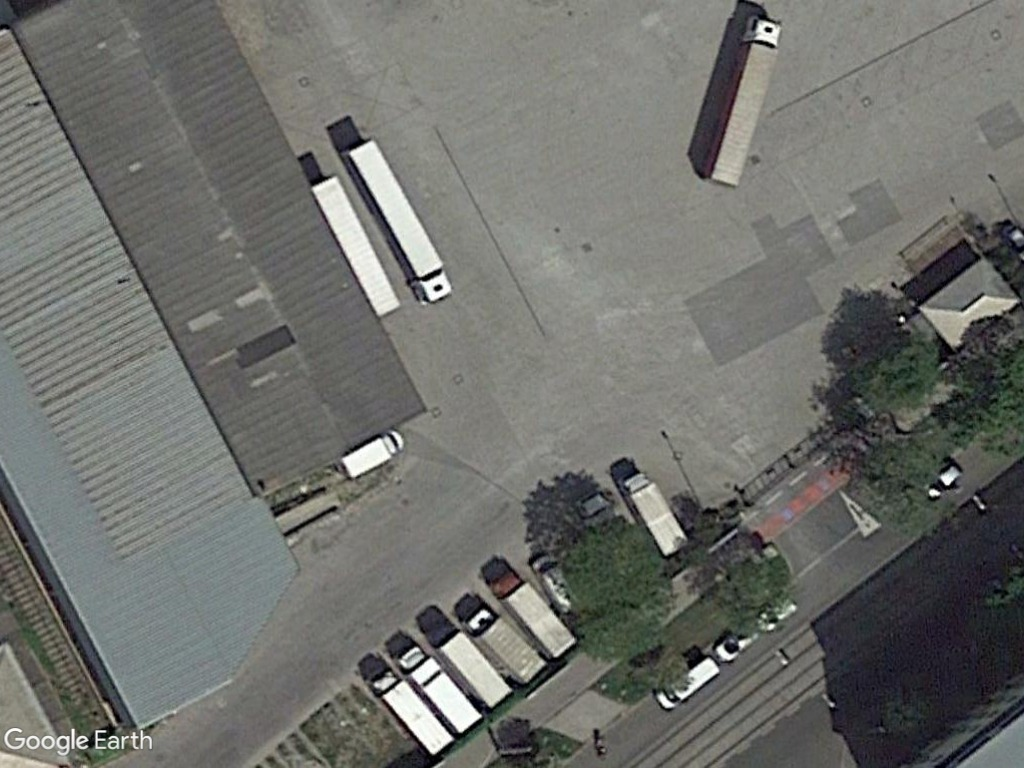longvehicle: (339, 136, 452, 308), (696, 4, 790, 194)
truck: (361, 662, 458, 762), (393, 639, 484, 741), (423, 615, 514, 714), (490, 569, 581, 663), (462, 602, 551, 689), (617, 466, 691, 565), (333, 421, 409, 483)
